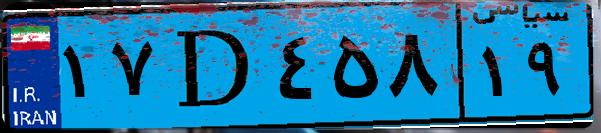1: (57, 26, 110, 100), (475, 38, 525, 113)
4: (270, 28, 330, 110)
5: (330, 28, 385, 110)
7: (110, 28, 158, 98)
8: (385, 28, 445, 110)
9: (525, 38, 570, 115)
D: (158, 12, 270, 120)
